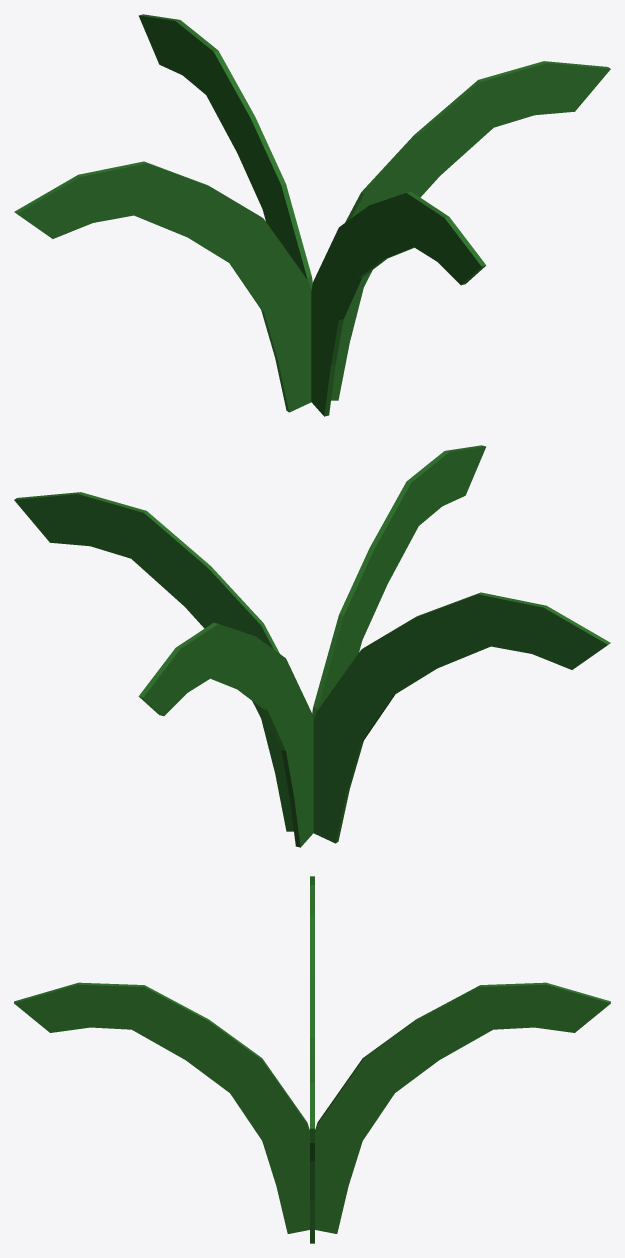
The model's file is 4BladeSmallGrass.fbx.
The picture shows the model from 3 angles, top to bottom: view 1: azimuth 30°, elevation 25°; view 2: azimuth 150°, elevation 25°; view 3: azimuth 270°, elevation 25°; orthographic projection. The views are drawn at different scales.
Parts seen in each view (by area): view 1: Cube.002, Cube, Cube.003, Cube.001; view 2: Cube.002, Cube, Cube.001, Cube.003; view 3: Cube.001, Cube.003, Cube, Cube.002.
Boxes of the visible parts, <box> form: Cube.002: <box>14,161,336,412</box>; Cube: <box>291,61,610,401</box>; Cube.003: <box>311,191,486,416</box>; Cube.001: <box>138,14,322,404</box>; Cube.002: <box>313,592,610,843</box>; Cube: <box>14,492,333,832</box>; Cube.001: <box>138,622,313,847</box>; Cube.003: <box>302,445,486,835</box>; Cube.001: <box>315,982,610,1233</box>; Cube.003: <box>14,982,309,1233</box>; Cube: <box>310,1057,314,1243</box>; Cube.002: <box>310,876,314,1056</box>.
Bounding box in the file's own units: 245 × 113 × 245.
